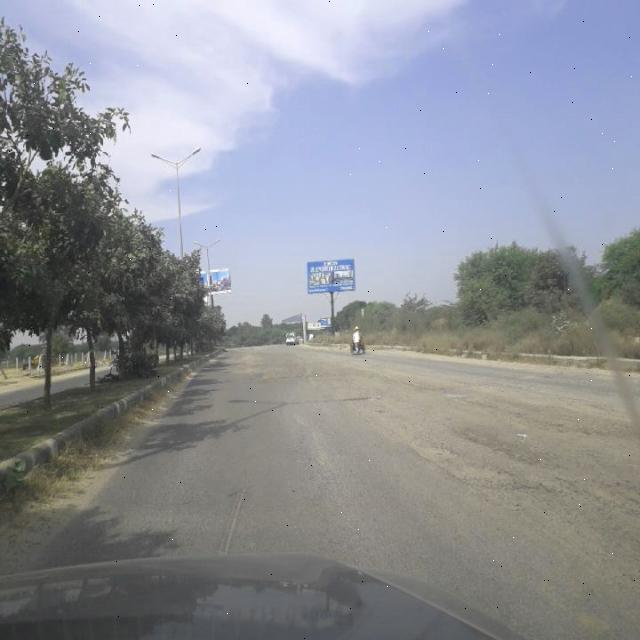D00: (293, 383, 328, 480), (221, 458, 256, 554)
D40: (390, 401, 537, 504), (537, 441, 640, 529), (231, 356, 332, 380)
